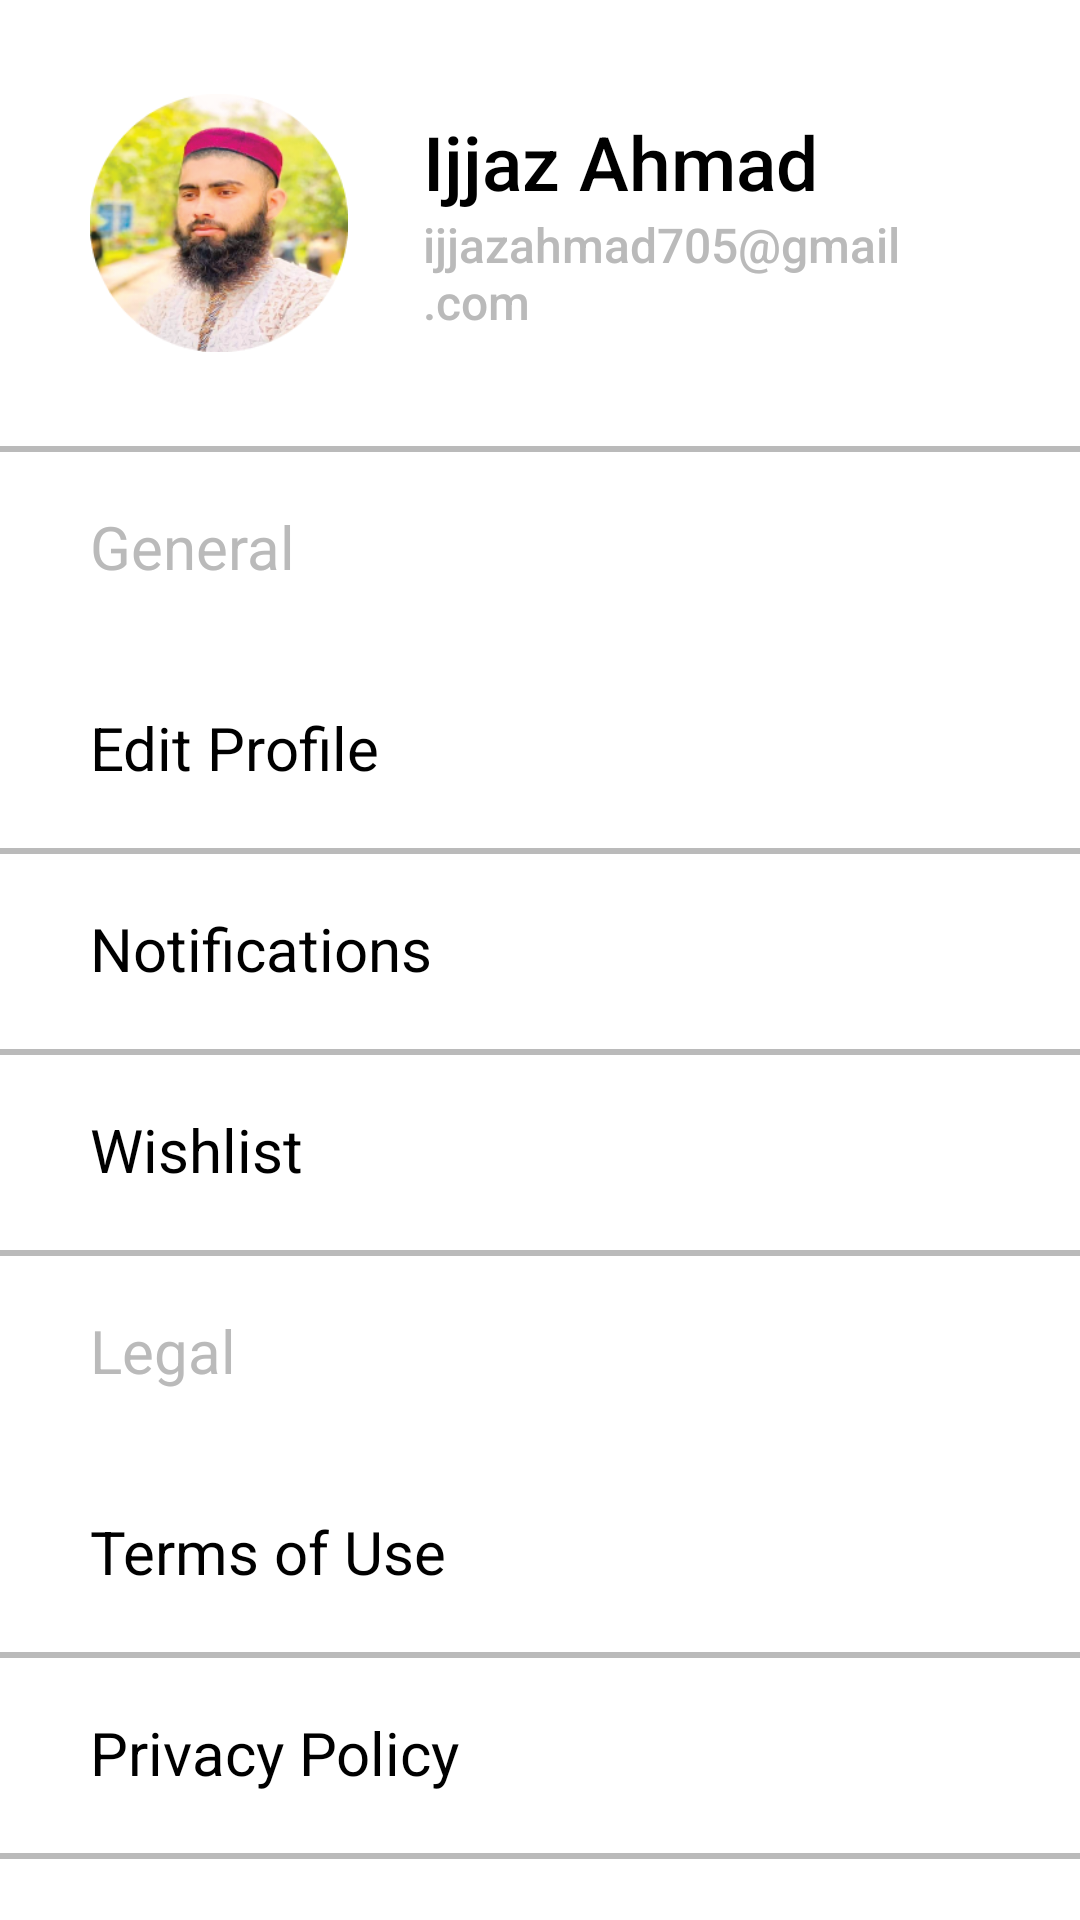

Locate icon controls on the screen. Image size 1080w x 1920h, boxes as BBox(x1, y1, x2, y2).
profile: BBox(90, 97, 348, 352)
